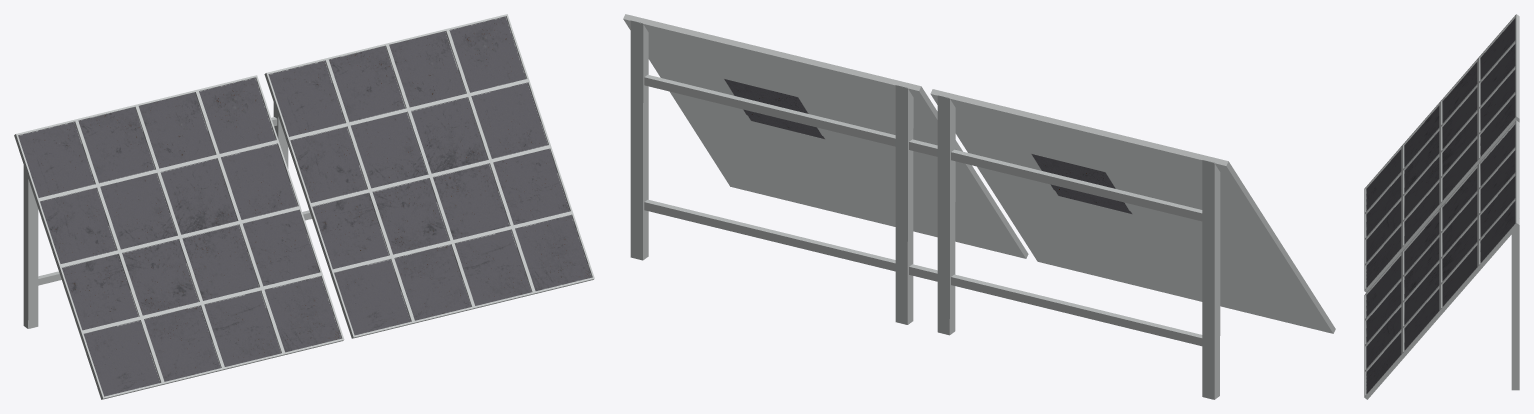
The model's file is panneau_solaire.fbx.
The picture shows the model from 3 angles, left to right: view 1: azimuth 30°, elevation 25°; view 2: azimuth 150°, elevation 25°; view 3: azimuth 270°, elevation 25°; orthographic projection. The views are drawn at different scales.
Parts seen in each view (by area): view 1: panneau_solaire; view 2: panneau_solaire; view 3: panneau_solaire.
Boxes of the visible parts, box(x1,y1,x2,y2) form: panneau_solaire: box(14, 14, 594, 399); panneau_solaire: box(623, 14, 1335, 399); panneau_solaire: box(1364, 14, 1519, 399).
Bounding box in the file's own units: 255 × 101 × 80.11.
1 material, 1 textured.
